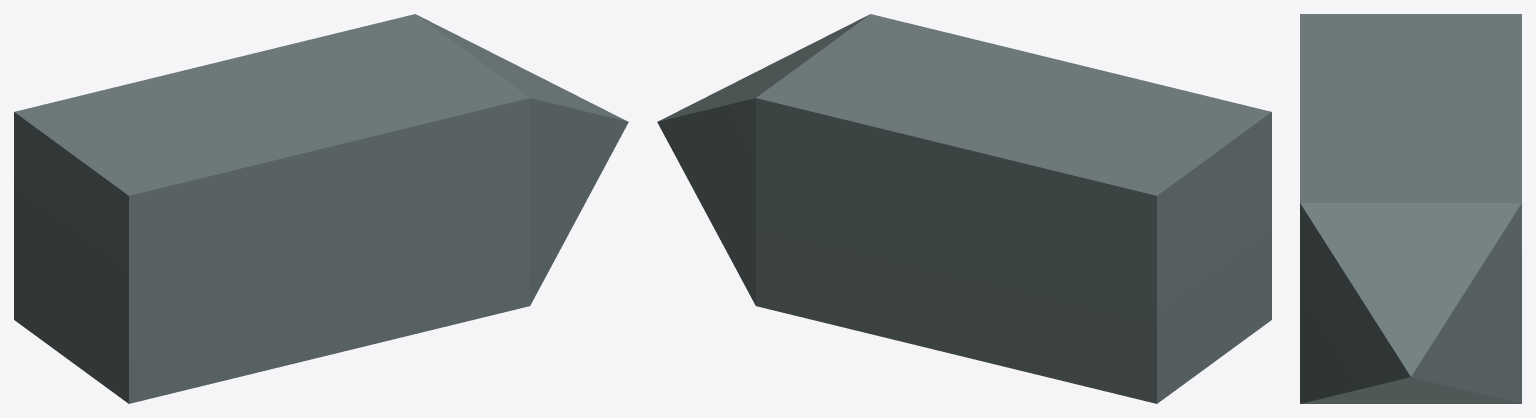
Rendered from PistolBullet.fbx.
The picture shows the model from 3 angles, left to right: view 1: azimuth 30°, elevation 25°; view 2: azimuth 150°, elevation 25°; view 3: azimuth 270°, elevation 25°; orthographic projection. The views are drawn at different scales.
Visible parts, largest first — view 1: Bullet1; view 2: Bullet1; view 3: Bullet1.
Part boxes in pixels (<box>): Bullet1: <box>14,14,628,403</box>; Bullet1: <box>657,14,1271,403</box>; Bullet1: <box>1300,14,1521,403</box>.
Bounding box in the file's own units: 1.51 × 0.5373 × 0.5373.
